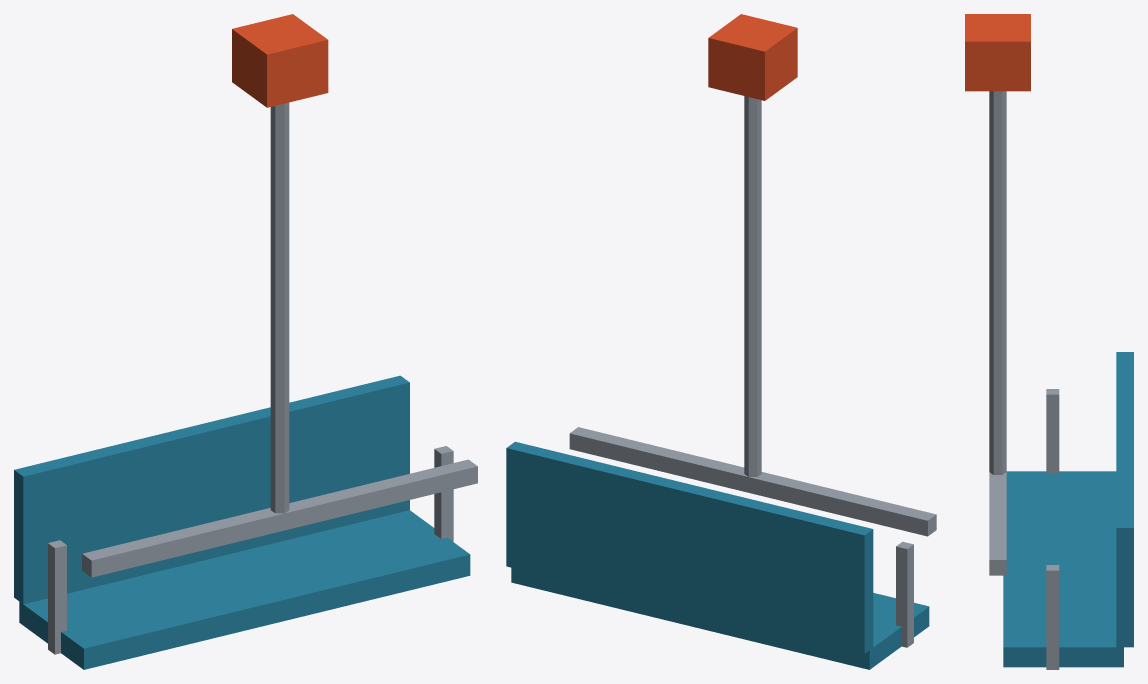
The model's file is lift_chair.glb.
The picture shows the model from 3 angles, left to right: view 1: azimuth 30°, elevation 25°; view 2: azimuth 150°, elevation 25°; view 3: azimuth 270°, elevation 25°; orthographic projection. The views are drawn at different scales.
Parts seen in each view (by area): view 1: lift_chair; view 2: lift_chair; view 3: lift_chair.
Part boxes in pixels (<box>): lift_chair: <box>14,14,477,669</box>; lift_chair: <box>506,14,936,669</box>; lift_chair: <box>965,14,1133,669</box>.
Bounding box in the file's own units: 1.96 × 2.78 × 0.7701.
